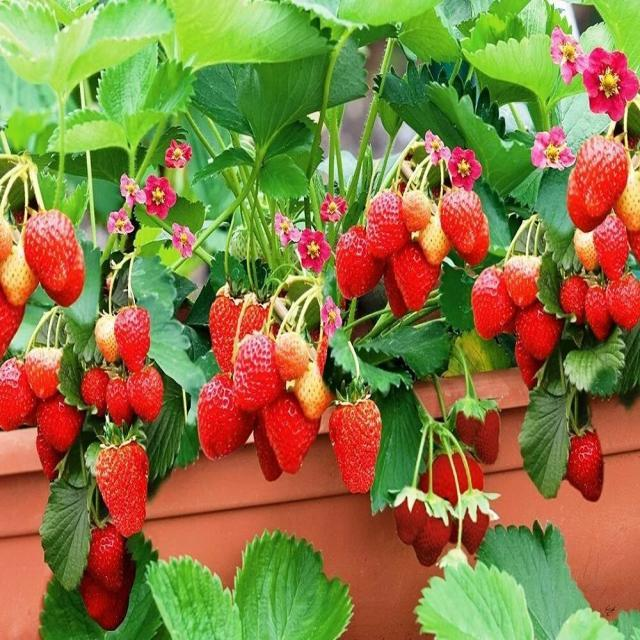ripe: (207, 288, 274, 378), (92, 441, 153, 538), (74, 538, 139, 623), (194, 370, 250, 466), (572, 129, 628, 217), (266, 386, 320, 474), (328, 397, 379, 490), (388, 233, 442, 314), (21, 211, 73, 289), (208, 294, 260, 369), (334, 228, 380, 300), (473, 266, 516, 342), (409, 492, 454, 564), (440, 184, 482, 256), (565, 418, 599, 499), (37, 386, 80, 448), (367, 192, 407, 258), (524, 292, 561, 360), (0, 356, 32, 434), (126, 361, 164, 424), (86, 525, 125, 585), (0, 272, 27, 356), (456, 492, 494, 551), (592, 219, 630, 277), (26, 343, 61, 402), (118, 307, 150, 370), (606, 272, 640, 324), (392, 487, 422, 542), (79, 366, 107, 416), (588, 280, 612, 338), (106, 373, 131, 427), (477, 404, 500, 461), (560, 272, 588, 318), (455, 396, 478, 444)
unripe: (0, 235, 38, 303), (294, 361, 338, 414), (270, 325, 310, 378), (418, 206, 446, 262), (617, 162, 640, 229), (94, 306, 119, 362), (406, 184, 430, 228), (574, 226, 598, 268), (230, 223, 255, 263), (0, 207, 13, 270)
